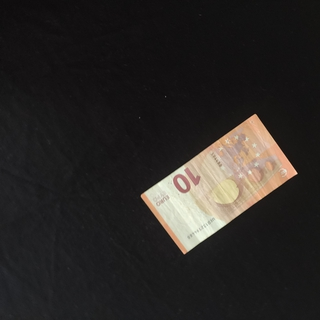10EUROBack: (140, 113, 298, 255)
